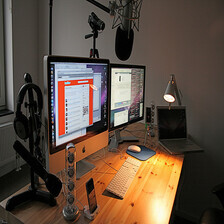laptop: (149, 98, 205, 160)
